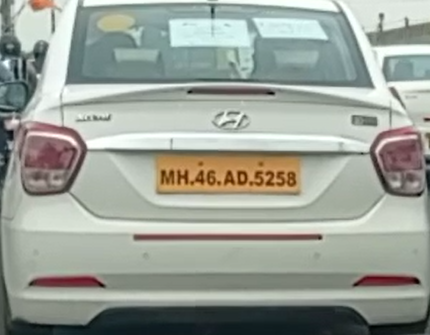MH46AD5258: (155, 154, 302, 195)
